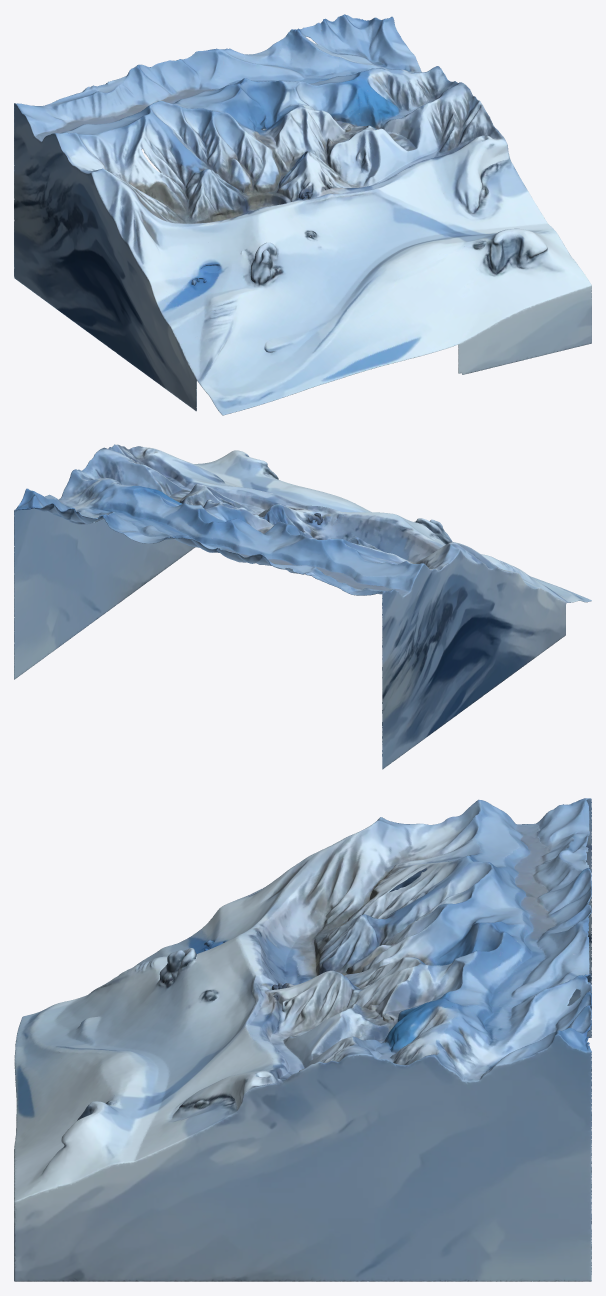
File: backdrop-ranges.glb
3 renders of one model, top to bottom at view 1: azimuth 30°, elevation 25°; view 2: azimuth 150°, elevation 25°; view 3: azimuth 270°, elevation 25°, orthographic. The views are drawn at different scales.
Parts seen in each view (by area): view 1: world; view 2: world; view 3: world.
Part boxes in pixels (box(x1,y1,x2,y2)): world: box(14, 14, 591, 415); world: box(14, 444, 591, 769); world: box(14, 798, 591, 1281).
Size of the model in its own units: 1 by 0.4804 by 1.
1 material, 1 textured.
